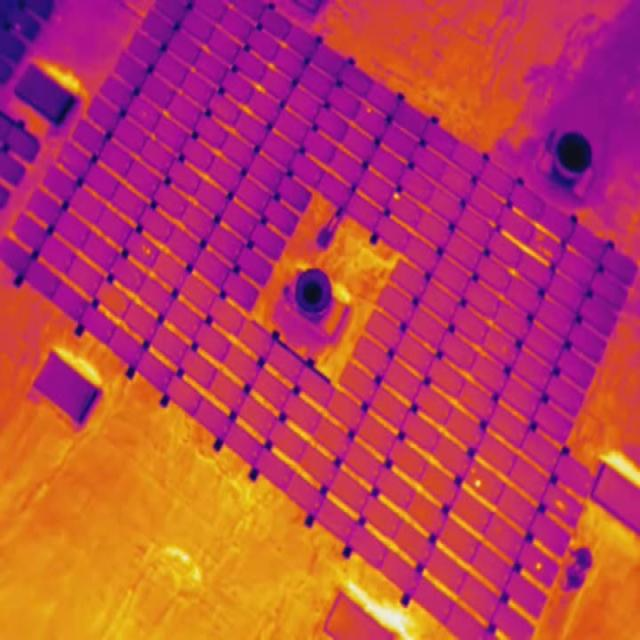Orange-Spots: (556, 500, 566, 511), (142, 246, 152, 256), (475, 479, 481, 488), (394, 192, 400, 200), (544, 250, 552, 256), (15, 24, 20, 32), (366, 108, 372, 114), (471, 467, 476, 474), (536, 563, 541, 570), (538, 233, 542, 240), (539, 245, 542, 251)
